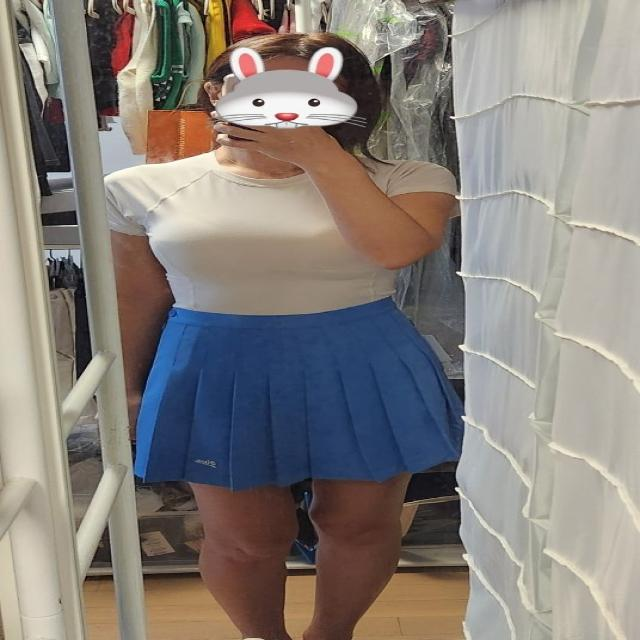shortsleeve: (104, 146, 454, 314)
skirt: (139, 299, 474, 487)
